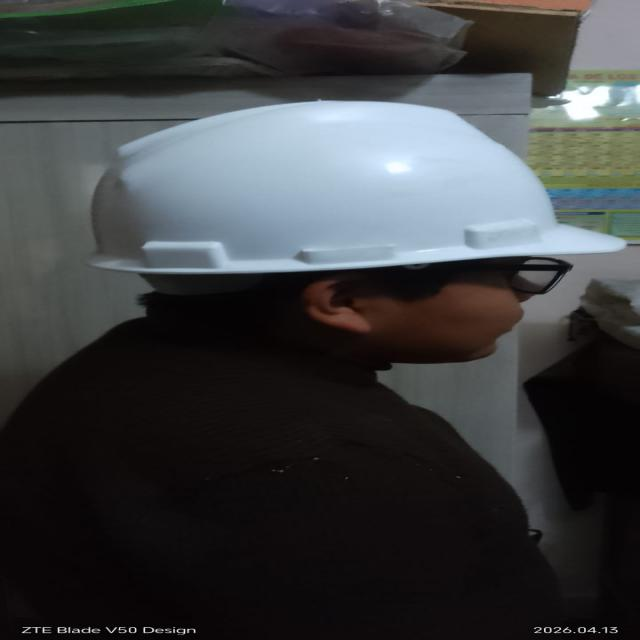casco: (62, 98, 640, 282)
